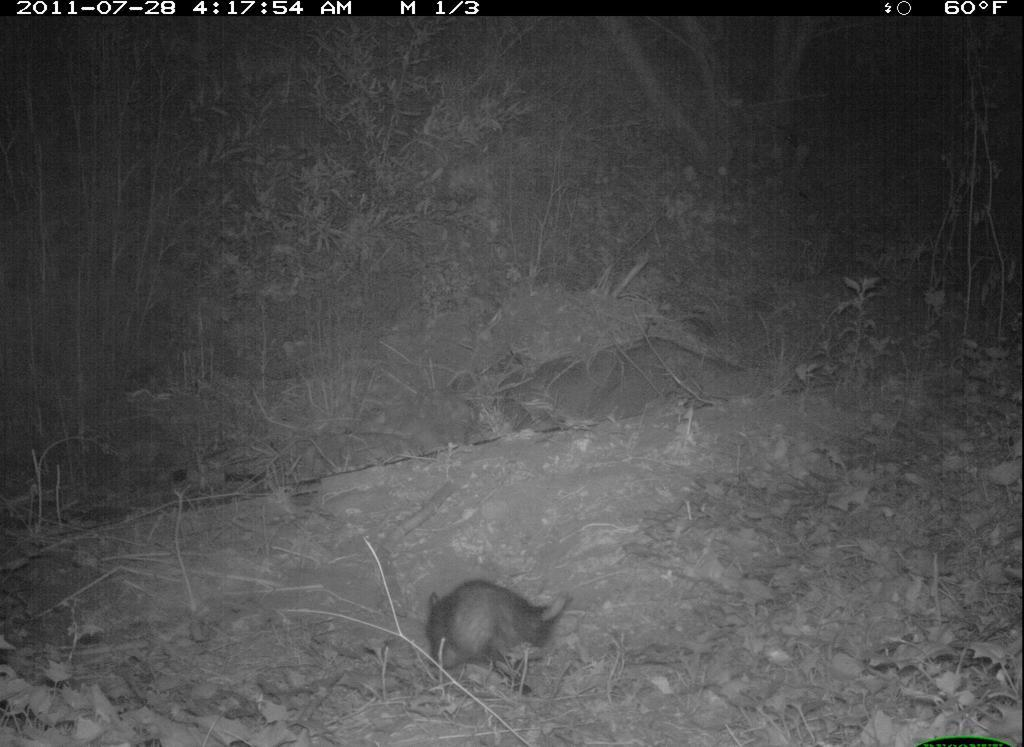opossum: (419, 577, 579, 699)
